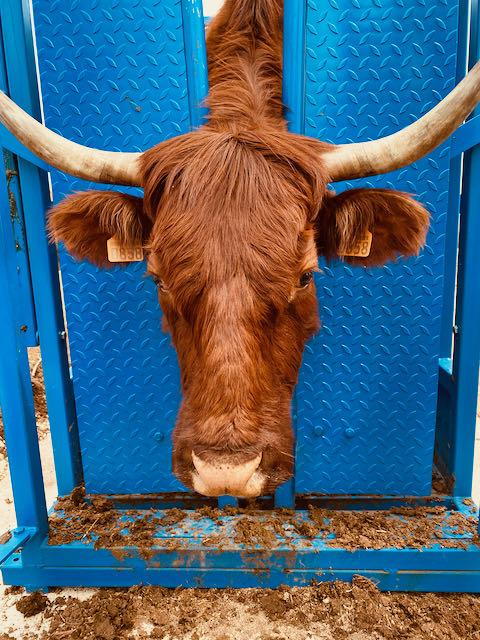muzzles: (170, 442, 288, 502)
